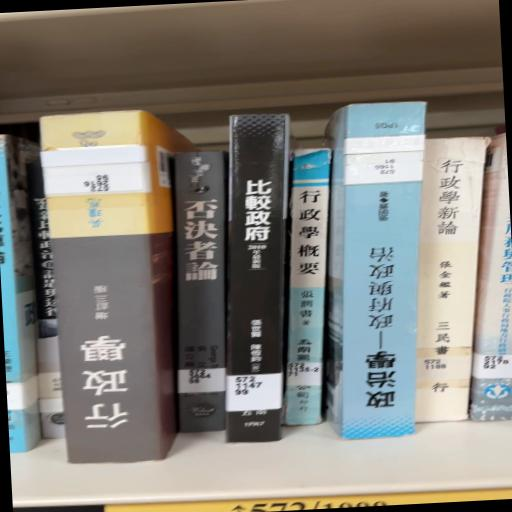reverse: (40, 111, 197, 463), (325, 102, 426, 439)
